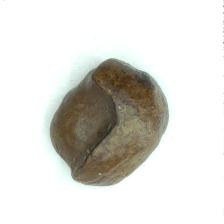NG: (48, 67, 125, 176)
